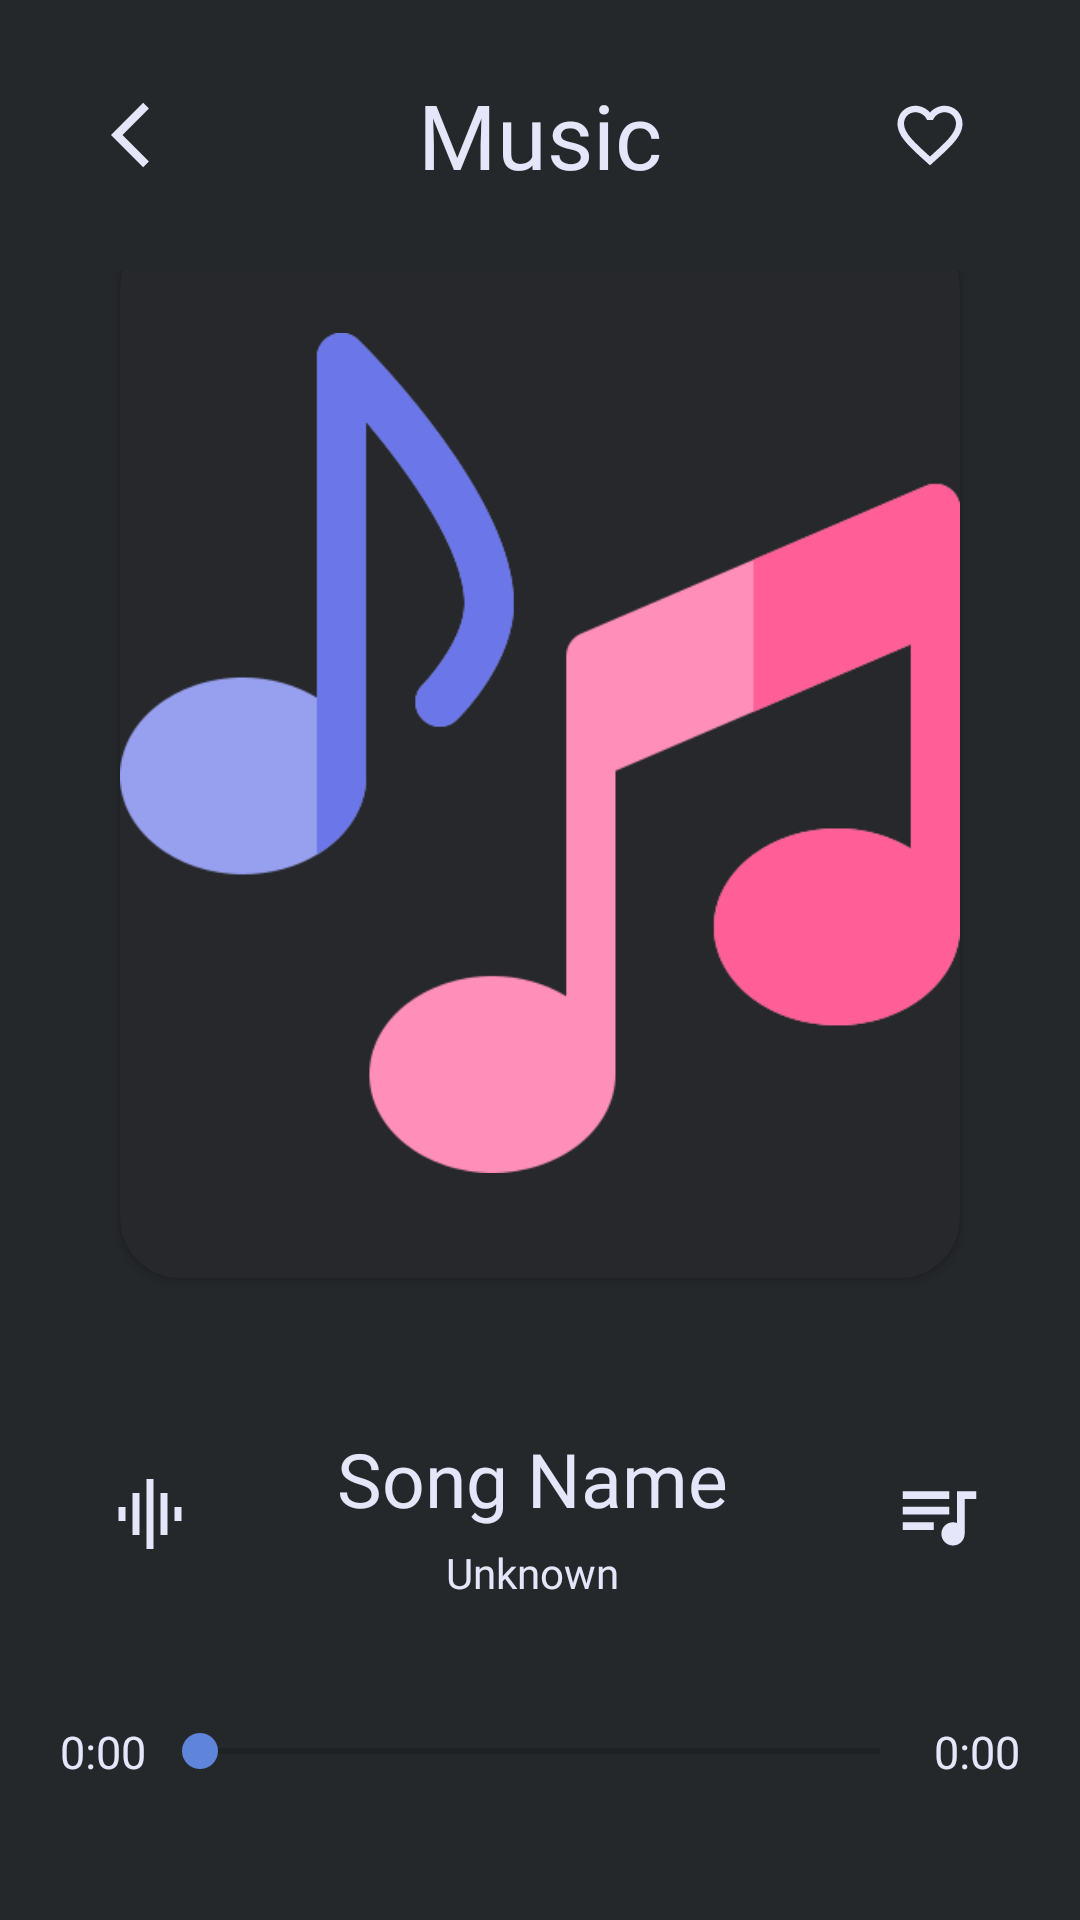

Where to tap for icons on this 1080px×1920px app screen, as (x,y):
back: (130,135)
equalizer: (150,1514)
favorite: (930,135)
queue music: (939,1518)
